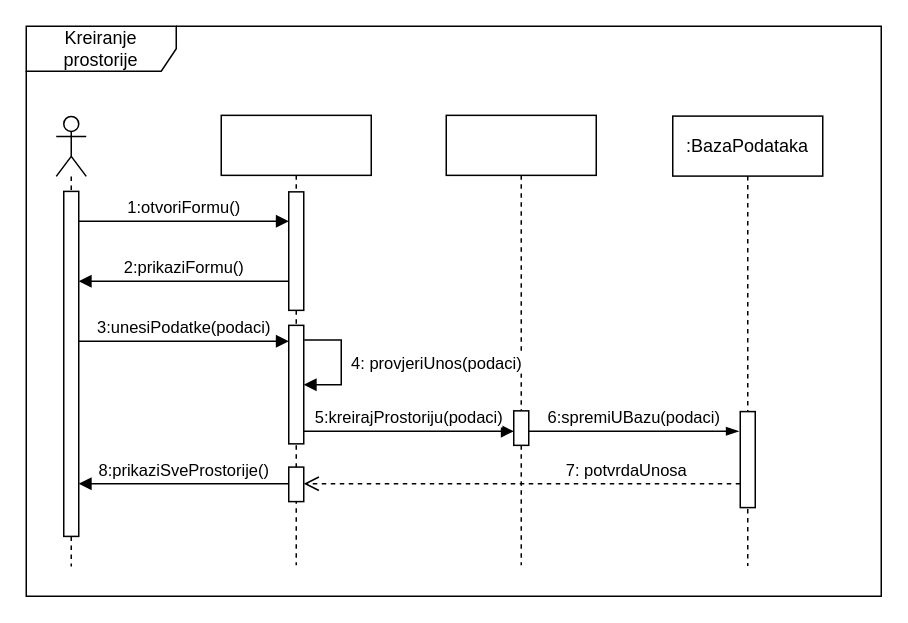
This 908x623 diagram has some shape labels left out. The box of each missing label's shape, as (x1, y1, x2, y2) in pixels:
:Forma za kreiranje: (220, 114, 371, 565)
:PrikazProstorija: (445, 114, 596, 565)
